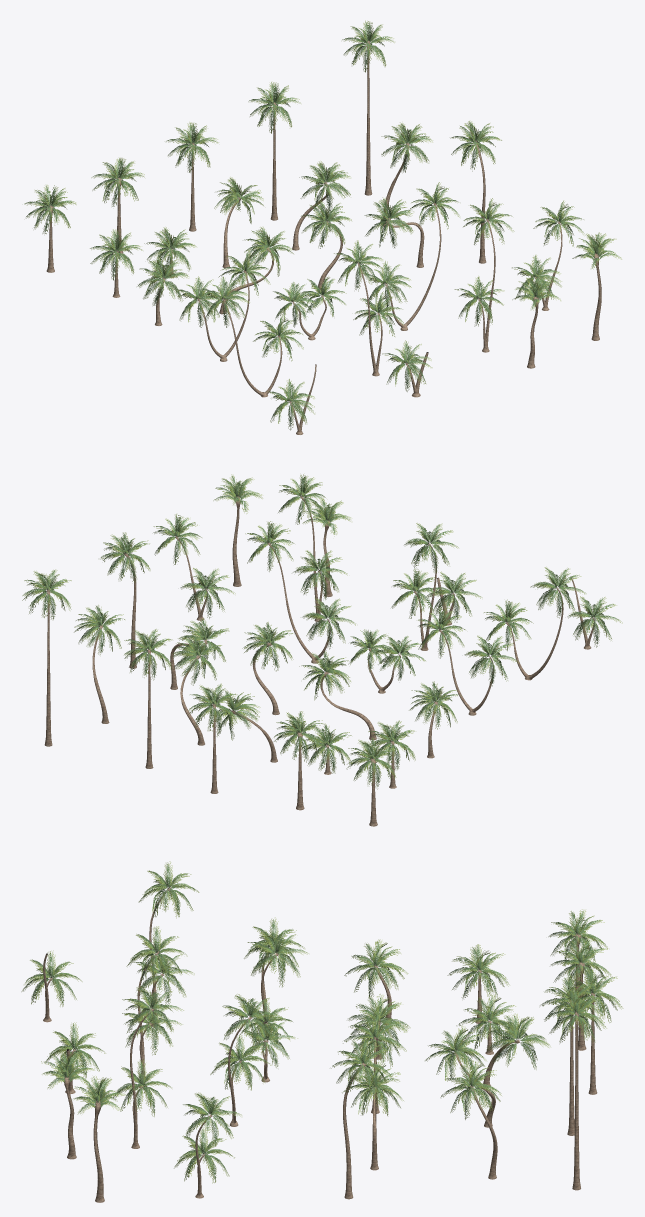
Rendered from Palm_2.fbx.
3 views of the same model, one above another, from view 1: azimuth 30°, elevation 25°; view 2: azimuth 150°, elevation 25°; view 3: azimuth 270°, elevation 25° (orthographic). The views are drawn at different scales.
Parts seen in each view (by area): view 1: M_Palm_P2_19, M_Palm_P2_18, M_Palm_P2_20, M_Palm_P2_21, M_Palm_P2_16, M_Palm_P2_22, M_Palm_P2_17, M_Palm_P2_5, M_Palm_P2_4, M_Palm_P2_15, M_Palm_P2_9, M_Palm_P2_3 (+14 smaller); view 2: M_Palm_P2_18, M_Palm_P2_19, M_Palm_P2_16, M_Palm_P2_20, M_Palm_P2_21, M_Palm_P2_22, M_Palm_P2_17, M_Palm_P2_5, M_Palm_P2_4, M_Palm_P2_15, M_Palm_P2_10, M_Palm_P2_2 (+14 smaller); view 3: M_Palm_P2_21, M_Palm_P2_18, M_Palm_P2_22, M_Palm_P2_19, M_Palm_P2_20, M_Palm_P2_5, M_Palm_P2_15, M_Palm_P2_16, M_Palm_P2_10, M_Palm_P2_8, M_Palm_P2_14, M_Palm_P2_11 (+14 smaller).
Boxes of the visible parts, x1,y1,x2,y2 form: M_Palm_P2_19: (199, 276, 303, 397); M_Palm_P2_18: (363, 182, 459, 330); M_Palm_P2_20: (334, 240, 403, 376); M_Palm_P2_21: (454, 198, 514, 352); M_Palm_P2_16: (176, 250, 270, 361); M_Palm_P2_22: (512, 200, 584, 310); M_Palm_P2_17: (273, 276, 346, 340); M_Palm_P2_5: (342, 20, 394, 195); M_Palm_P2_4: (248, 82, 300, 220); M_Palm_P2_15: (450, 121, 501, 263); M_Palm_P2_9: (292, 161, 350, 250); M_Palm_P2_3: (166, 122, 218, 231); M_Palm_P2_18: (245, 521, 355, 663); M_Palm_P2_19: (484, 567, 586, 680); M_Palm_P2_16: (418, 607, 518, 715); M_Palm_P2_20: (391, 523, 458, 650); M_Palm_P2_21: (278, 474, 347, 621); M_Palm_P2_22: (153, 514, 235, 620); M_Palm_P2_17: (348, 629, 425, 693); M_Palm_P2_5: (22, 569, 71, 746); M_Palm_P2_4: (124, 629, 172, 768); M_Palm_P2_15: (100, 532, 150, 668); M_Palm_P2_10: (74, 605, 124, 723); M_Palm_P2_2: (274, 711, 325, 810); M_Palm_P2_21: (113, 986, 183, 1148); M_Palm_P2_18: (210, 994, 281, 1126); M_Palm_P2_22: (174, 1092, 241, 1198); M_Palm_P2_19: (133, 861, 199, 1027); M_Palm_P2_20: (122, 926, 187, 1088); M_Palm_P2_5: (544, 987, 606, 1190); M_Palm_P2_15: (331, 1036, 393, 1199); M_Palm_P2_16: (244, 917, 308, 1023); M_Palm_P2_10: (440, 1060, 501, 1179); M_Palm_P2_8: (483, 1013, 550, 1085); M_Palm_P2_14: (342, 1060, 403, 1170); M_Palm_P2_11: (344, 939, 408, 1024).
Bounding box in the file's own units: 10968 × 4354 × 12251.
